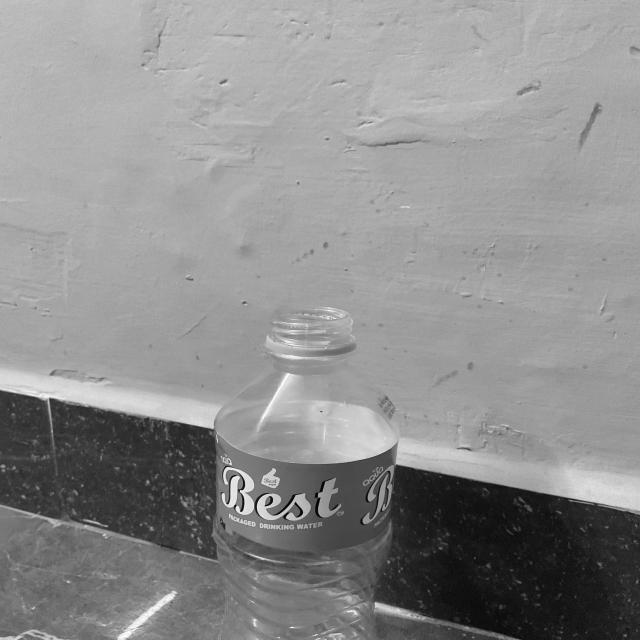open-cap: (263, 300, 355, 356)
